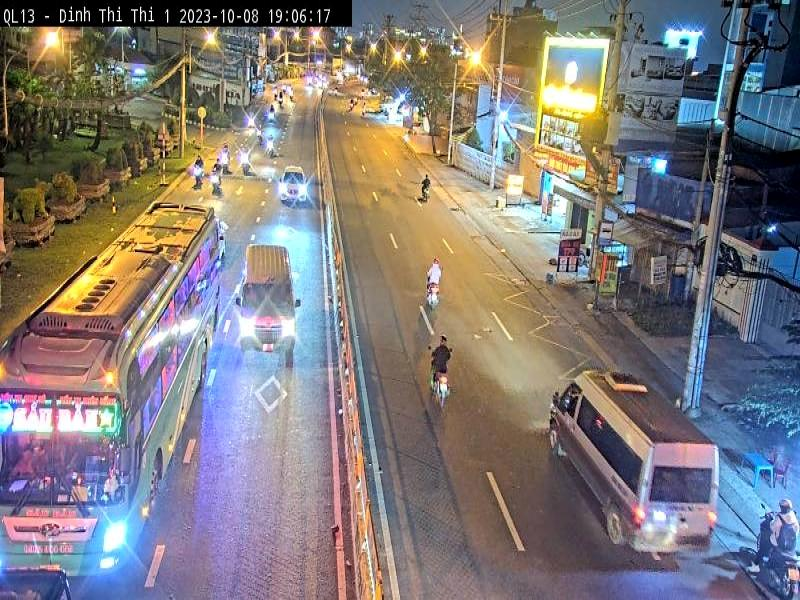bus: (0, 203, 222, 581)
car: (548, 371, 716, 559), (239, 236, 298, 363)
